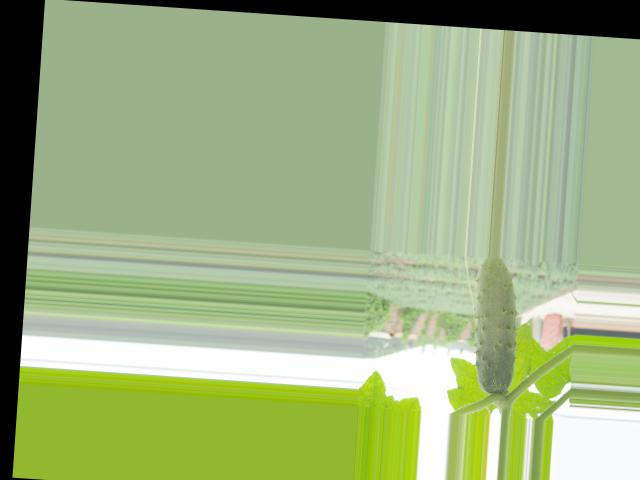cucumber: (468, 255, 521, 394)
